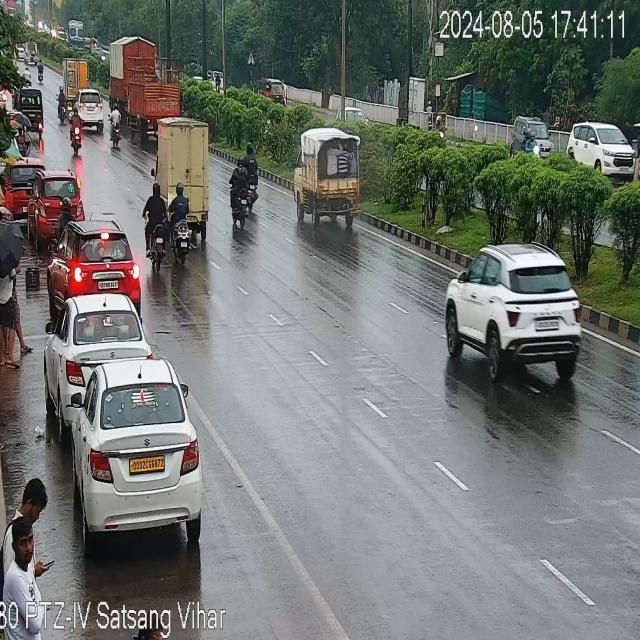2-wheelers: (222, 146, 264, 226), (140, 181, 172, 269), (167, 177, 191, 265), (108, 102, 124, 152), (70, 100, 84, 155), (58, 195, 78, 218), (523, 128, 538, 156), (58, 87, 65, 123), (38, 58, 44, 80), (216, 74, 220, 90)
auto: (298, 128, 368, 226), (261, 76, 289, 108), (20, 91, 42, 128)
car: (66, 362, 202, 542), (450, 237, 590, 382), (48, 292, 144, 406), (61, 222, 142, 299), (568, 120, 634, 188), (34, 170, 86, 226), (510, 112, 563, 156), (77, 89, 106, 132), (15, 158, 33, 216)
pedestrian: (2, 486, 56, 626), (0, 250, 17, 367), (0, 171, 12, 212)
truck: (139, 100, 213, 278), (108, 34, 179, 114), (61, 57, 88, 103)
